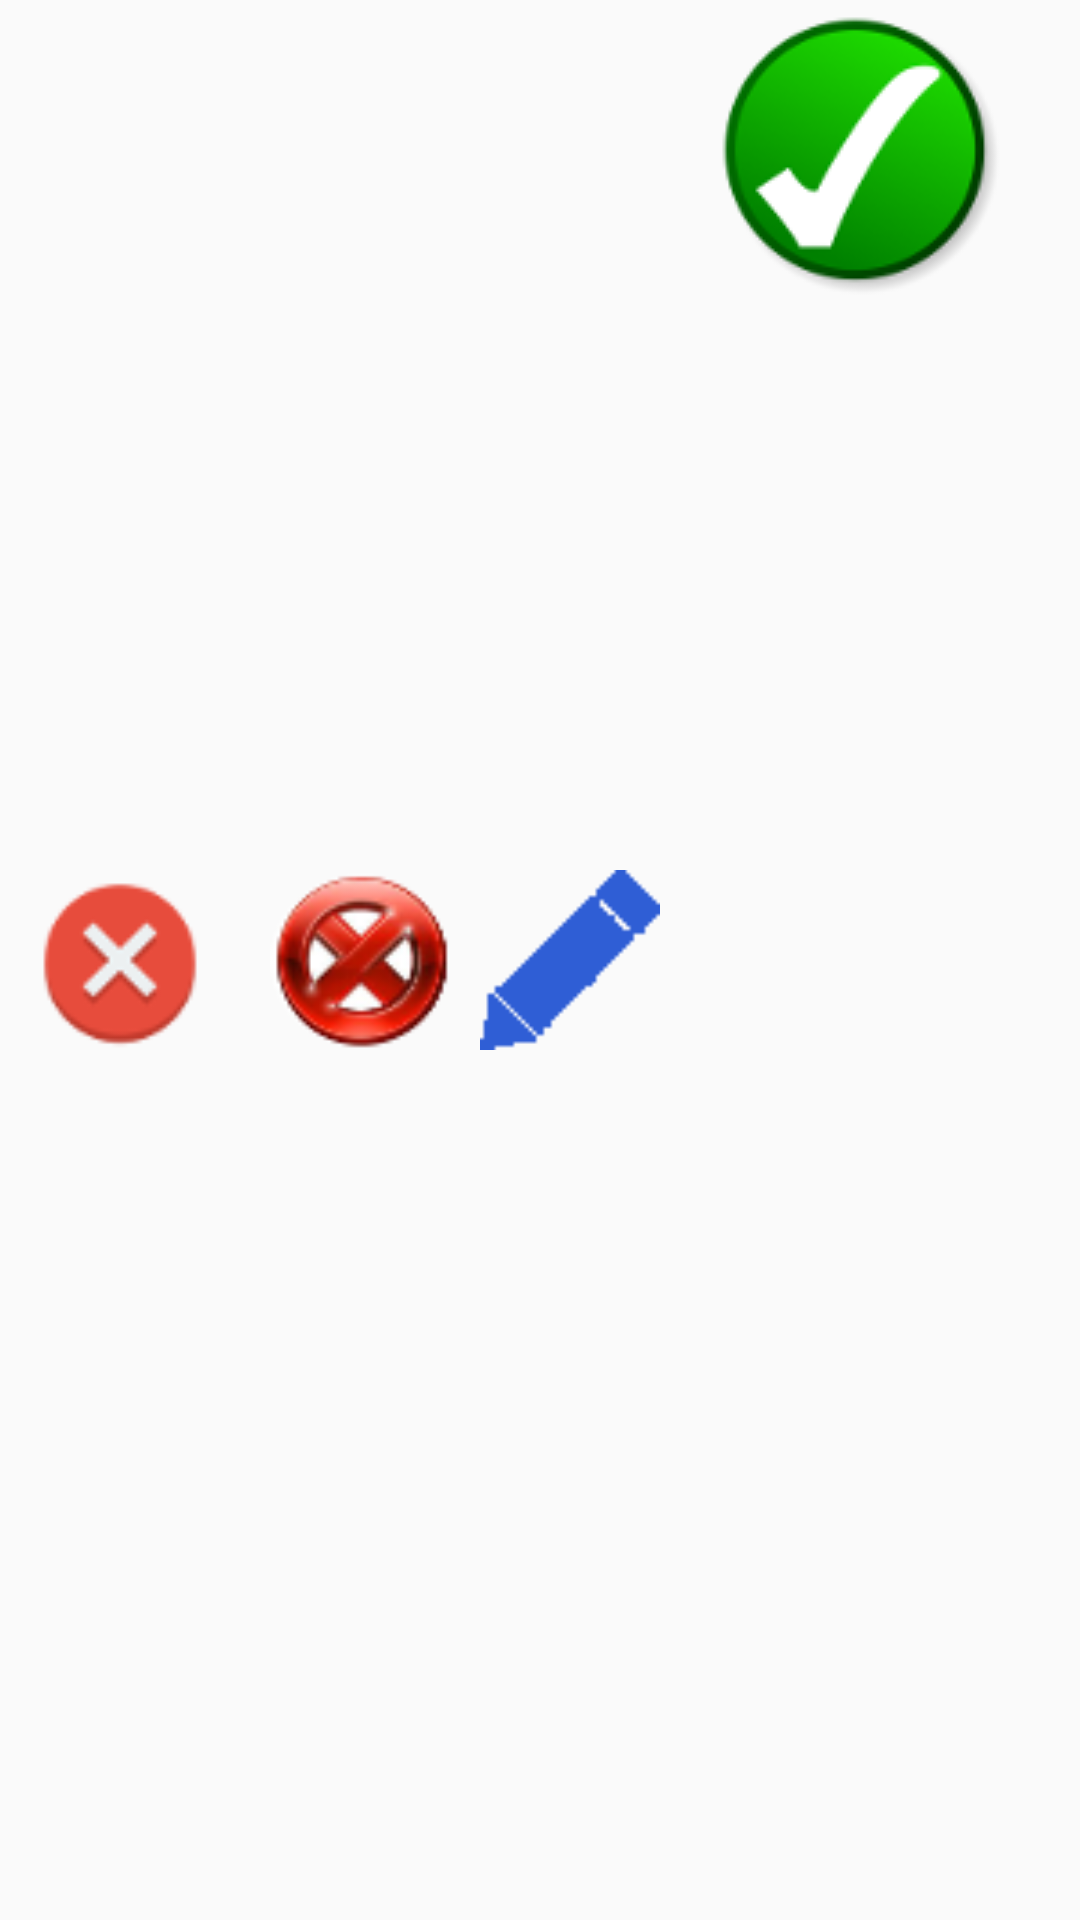

Screen size 1080 × 1920. Icon name, then its center in pixels as (x=x, y=y):
BORRAR ESCENARIO: (x=362, y=962)
EMPEZAR: (x=857, y=152)
INGRESE UN NUEVO NOMBRE: (x=570, y=960)
